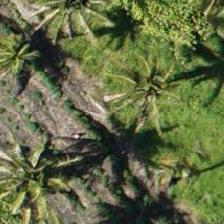Kelapa_Sawit: (105, 50, 195, 140), (0, 122, 72, 212), (25, 0, 115, 48)
